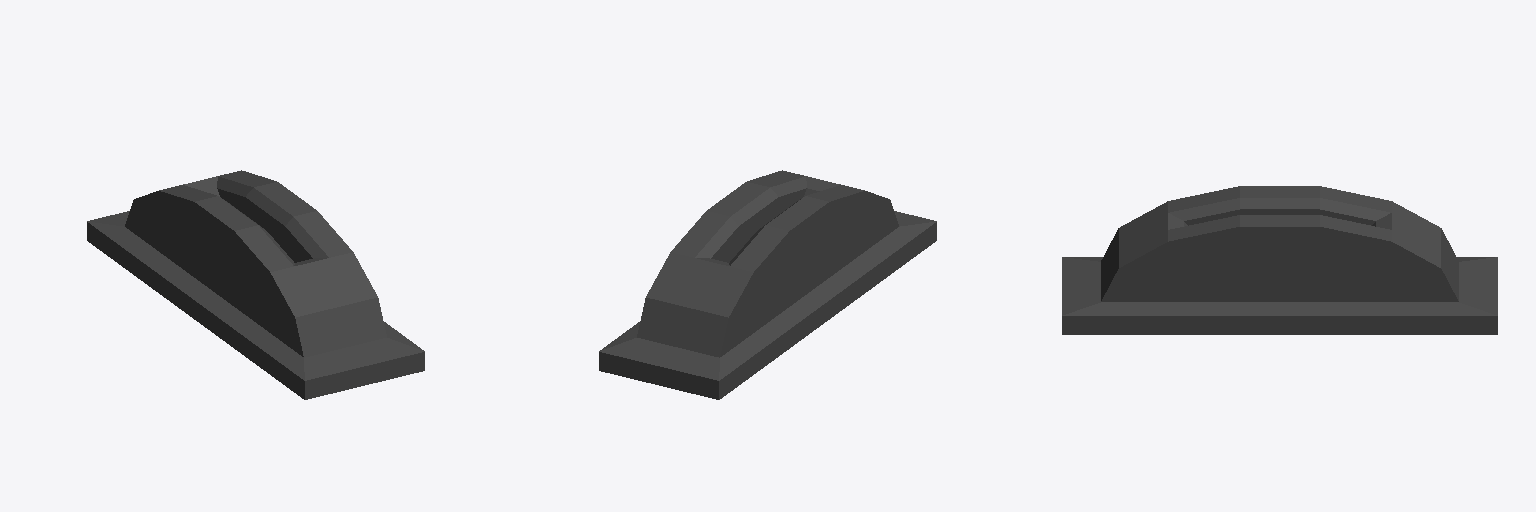
Rendered from lever_base.obj.
3 views of the same model, side by side, from view 1: azimuth 30°, elevation 25°; view 2: azimuth 150°, elevation 25°; view 3: azimuth 270°, elevation 25° (orthographic).
Parts seen in each view (by area): view 1: Cylinder004; view 2: Cylinder004; view 3: Cylinder004.
Boxes of the visible parts, x1,y1,x2,y2 form: Cylinder004: [87, 170, 424, 399]; Cylinder004: [599, 170, 936, 399]; Cylinder004: [1062, 186, 1497, 334].
Bounding box in the file's own units: 22.35 × 17.6 × 70.06.